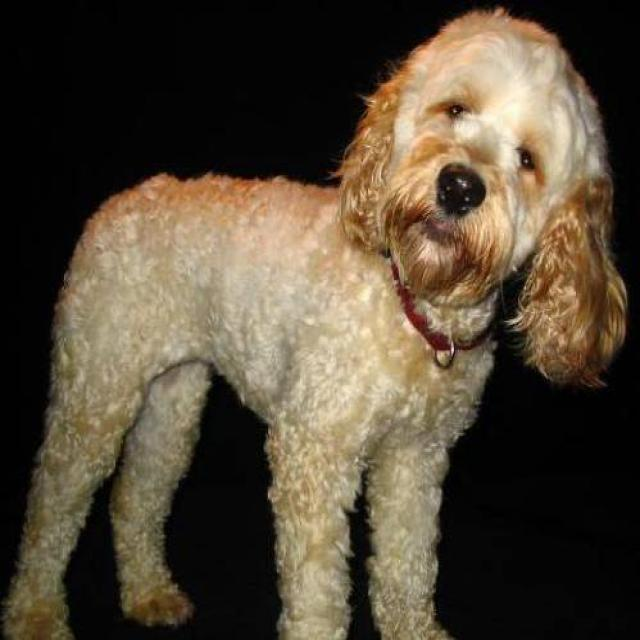relax: (36, 19, 640, 640)
